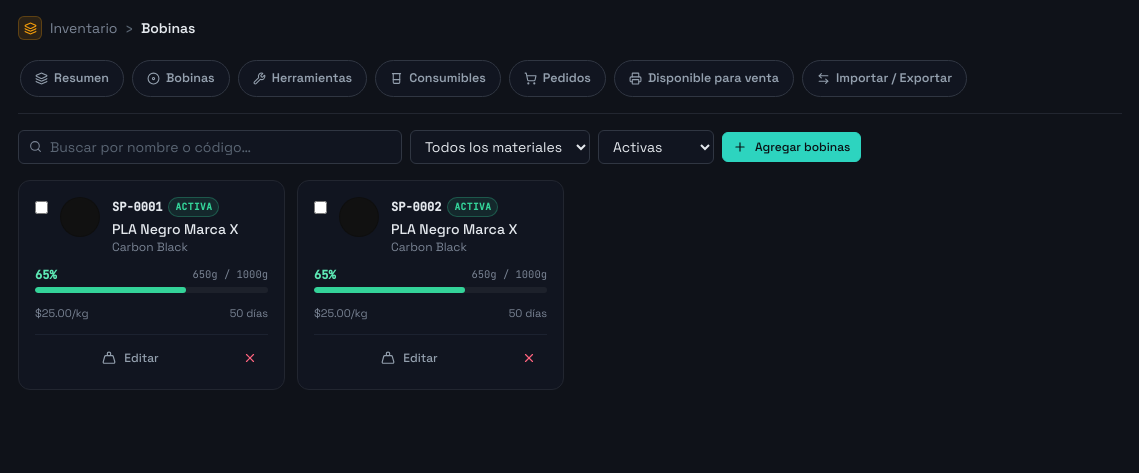
Scenario: InventorySpoolsPage — impresión de etiquetas › seleccionar bobinas muestra la barra de acción con el conteo
Check: the text "SP-0001" is shown, box [112, 199, 162, 215]
Click the checkbox named "Seleccionar SP-0001".
click(42, 207)  # box [35, 201, 48, 214]
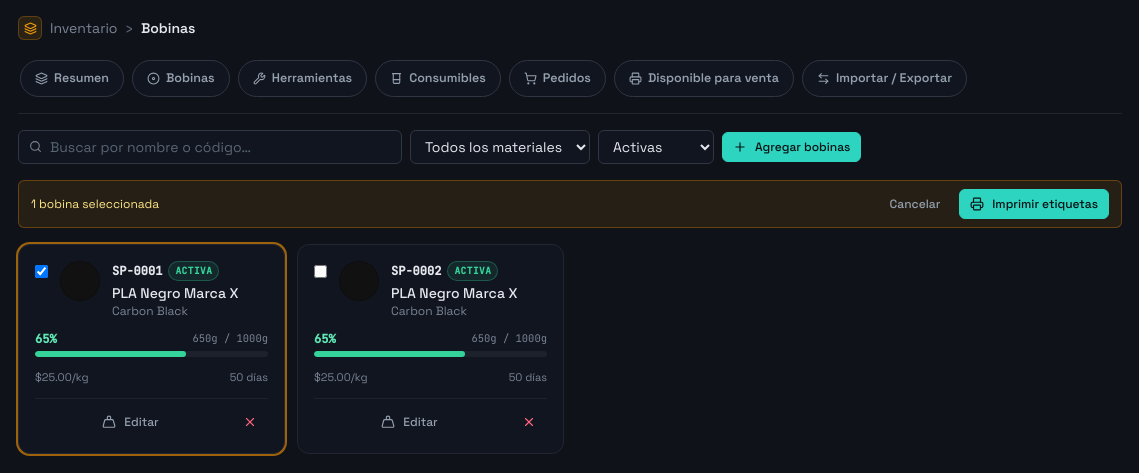
Check: the text "1 bobina seleccionada" is shown, box [31, 196, 159, 212]
Click the checkbox named "Seleccionar SP-0002".
click(320, 271)  # box [314, 265, 327, 278]
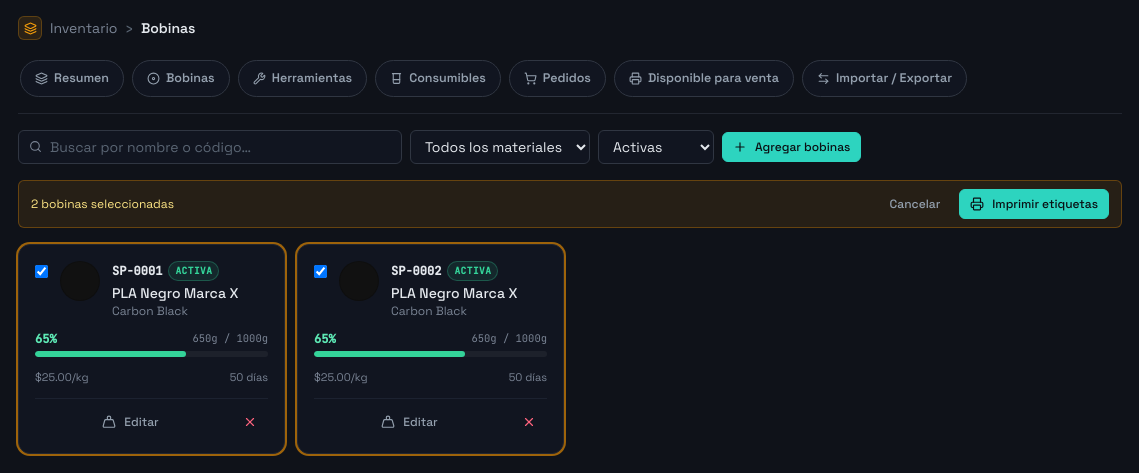
Check: the text "2 bobinas seleccionadas" is shown, box [31, 196, 174, 212]
